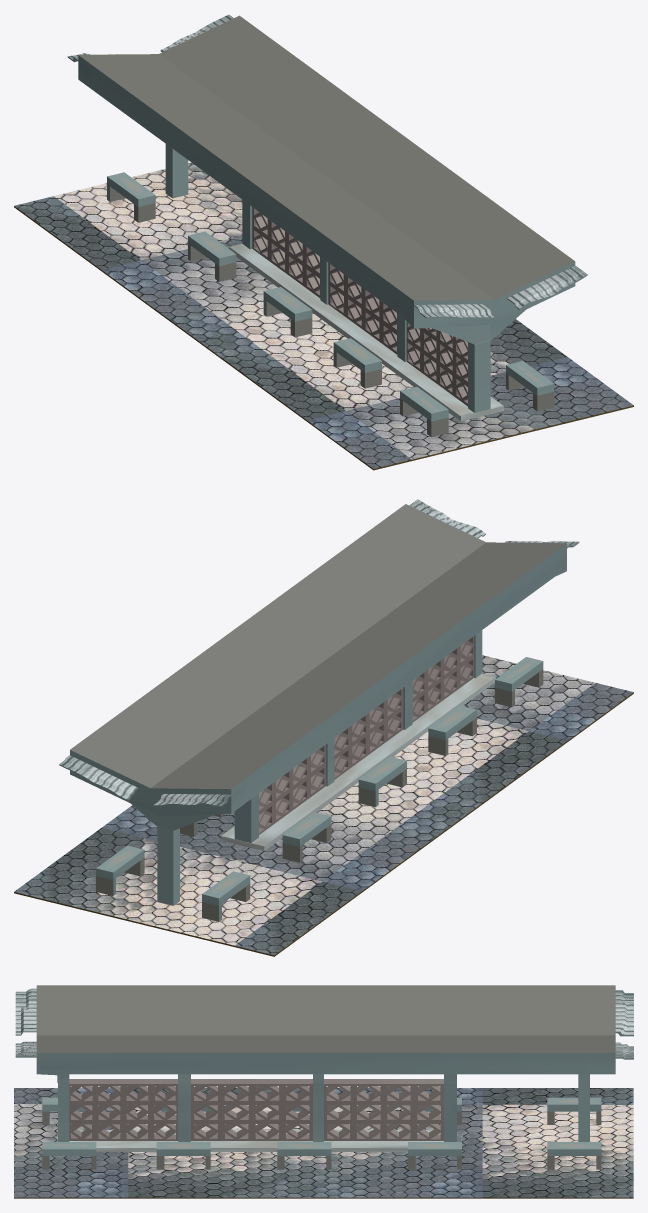
File: terminalTEXTURE2.fbx
The picture shows the model from 3 angles, top to bottom: view 1: azimuth 30°, elevation 25°; view 2: azimuth 150°, elevation 25°; view 3: azimuth 270°, elevation 25°; orthographic projection. The views are drawn at different scales.
Visible parts, largest first — view 1: terminal.001, Plane, terminal, jendela, jendela2, jendela3, terminal.013, kursiw4.005, kursiw4.004, kursiw4.007, kursiw5.001, kursiw4.006 (+3 smaller); view 2: terminal.001, Plane, terminal, jendela2, jendela3, jendela, terminal.008, kursiw4.006, kursiw4.005, kursiw4.004, kursiw5.001, kursiw4.003 (+3 smaller); view 3: terminal.001, Plane, jendela2, jendela3, jendela, terminal, kursiw4, kursiw5, kursiw4.001, kursiw4.003, kursiw4.002, kursiw4.007 (+6 smaller).
Part boxes in pixels (x1,y1,x2,y2): terminal.001: (67,14,587,328); Plane: (14,162,633,470); terminal: (229,244,503,421); jendela: (406,321,467,406); jendela2: (328,263,397,354); jendela3: (252,207,320,297); terminal.013: (468,341,490,412); kursiw4.005: (263,287,312,337); kursiw4.004: (333,338,381,388); kursiw4.007: (107,172,155,222); kursiw5.001: (400,387,448,437); kursiw4.006: (188,231,236,281); terminal.001: (59,499,579,816); Plane: (14,655,633,956); terminal: (221,673,495,850); jendela2: (334,688,403,779); jendela3: (259,744,325,834); jendela: (412,636,473,722); terminal.008: (157,827,179,905); kursiw4.006: (282,812,331,862); kursiw4.005: (358,756,406,807); kursiw4.004: (428,705,476,755); kursiw5.001: (495,657,543,707); kursiw4.003: (96,845,144,895); terminal.001: (15,985,633,1075); Plane: (14,1088,633,1198); jendela2: (191,1079,312,1140); jendela3: (324,1079,443,1140); jendela: (69,1079,177,1140); terminal: (57,1129,443,1151); kursiw4: (156,1142,210,1169); kursiw5: (42,1142,96,1169); kursiw4.001: (277,1142,331,1169); kursiw4.003: (547,1142,601,1169); kursiw4.002: (408,1142,461,1169); kursiw4.007: (547,1097,601,1124).
Size of the model in its own units: 125 by 67.32 by 299.
27 materials, 20 textured.
